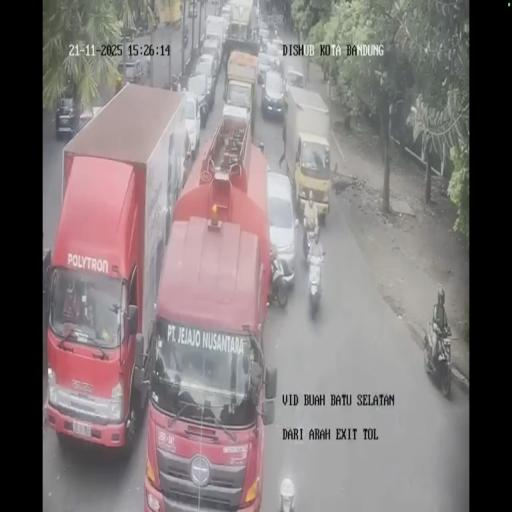car: (185, 72, 210, 133), (260, 69, 286, 119), (282, 60, 304, 103), (201, 36, 222, 78), (264, 40, 283, 70), (220, 2, 232, 26), (258, 24, 270, 44)
motorcycle: (423, 319, 452, 397), (267, 265, 288, 309), (303, 218, 321, 262), (308, 262, 322, 318)
truck: (47, 81, 192, 453), (284, 86, 331, 218), (118, 56, 147, 86)
